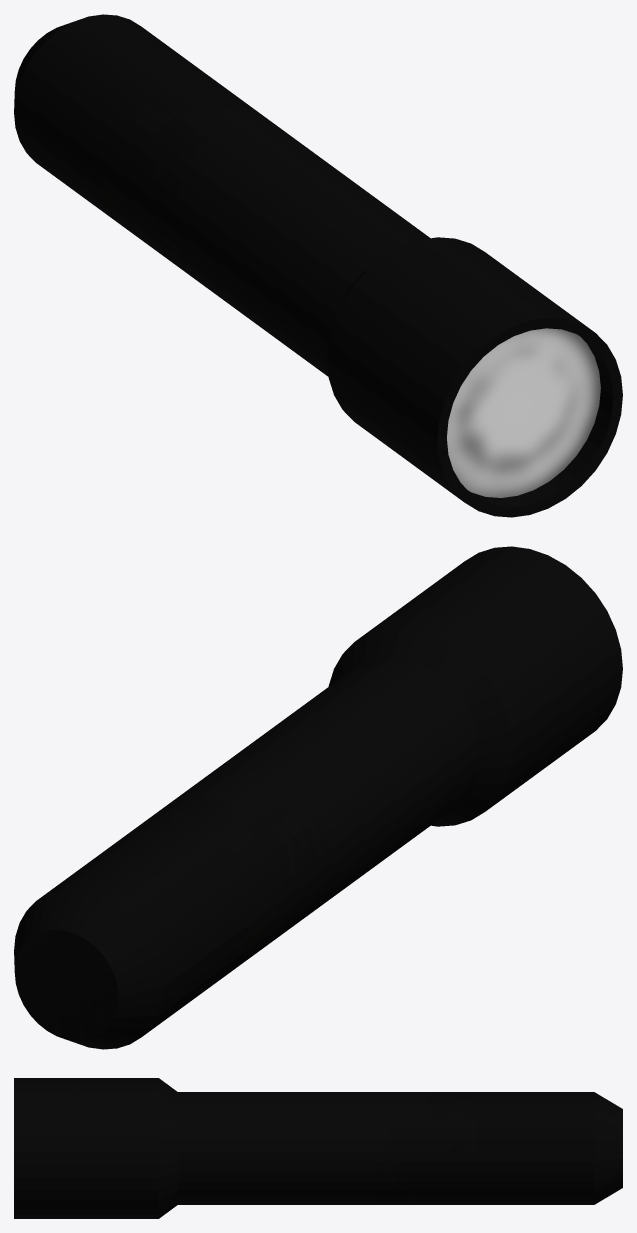
The model's file is flashlight.obj.
3 renders of one model, top to bottom at view 1: azimuth 30°, elevation 25°; view 2: azimuth 150°, elevation 25°; view 3: azimuth 270°, elevation 25°, orthographic. The views are drawn at different scales.
Visible parts, largest first — view 1: Cylinder; view 2: Cylinder; view 3: Cylinder.
Part boxes in pixels (x1,y1,x2,y2): Cylinder: [14, 14, 622, 517]; Cylinder: [14, 546, 622, 1049]; Cylinder: [14, 1078, 622, 1218].
Bounding box in the file's own units: 0.0368 × 0.0368 × 0.1591.
